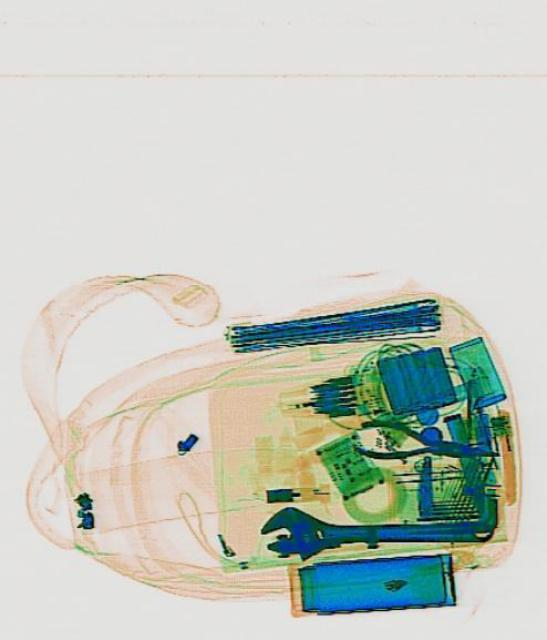Pliers: (350, 413, 501, 472)
Wrench: (257, 501, 492, 563)
